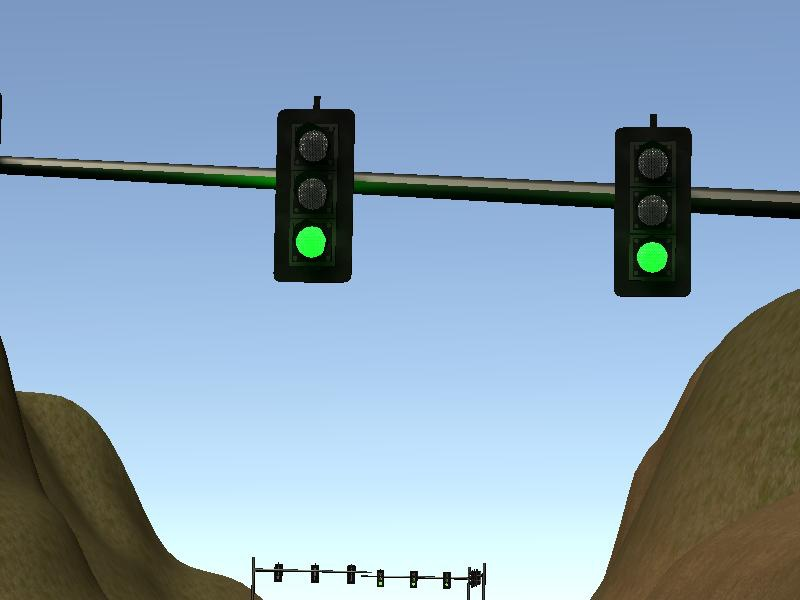Green: (270, 108, 355, 284), (609, 125, 694, 301), (440, 570, 453, 592), (408, 568, 419, 590), (375, 568, 386, 589)
